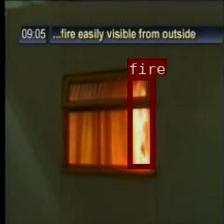fire: (127, 74, 154, 168)
